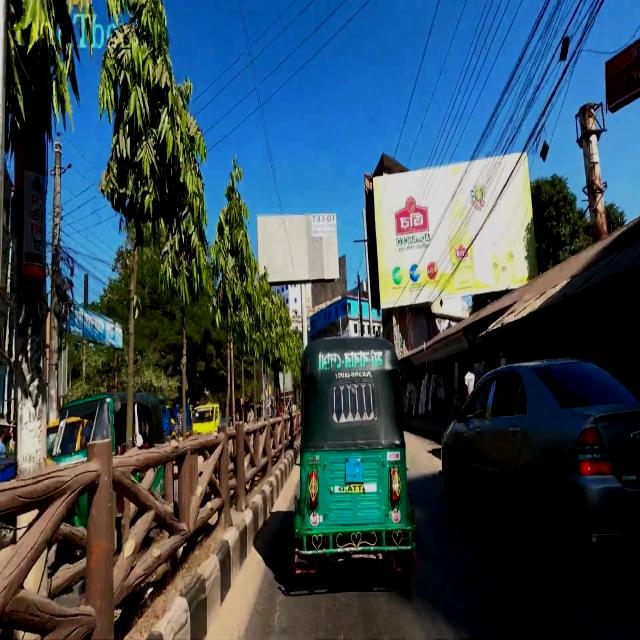silver: (437, 351, 640, 559)
